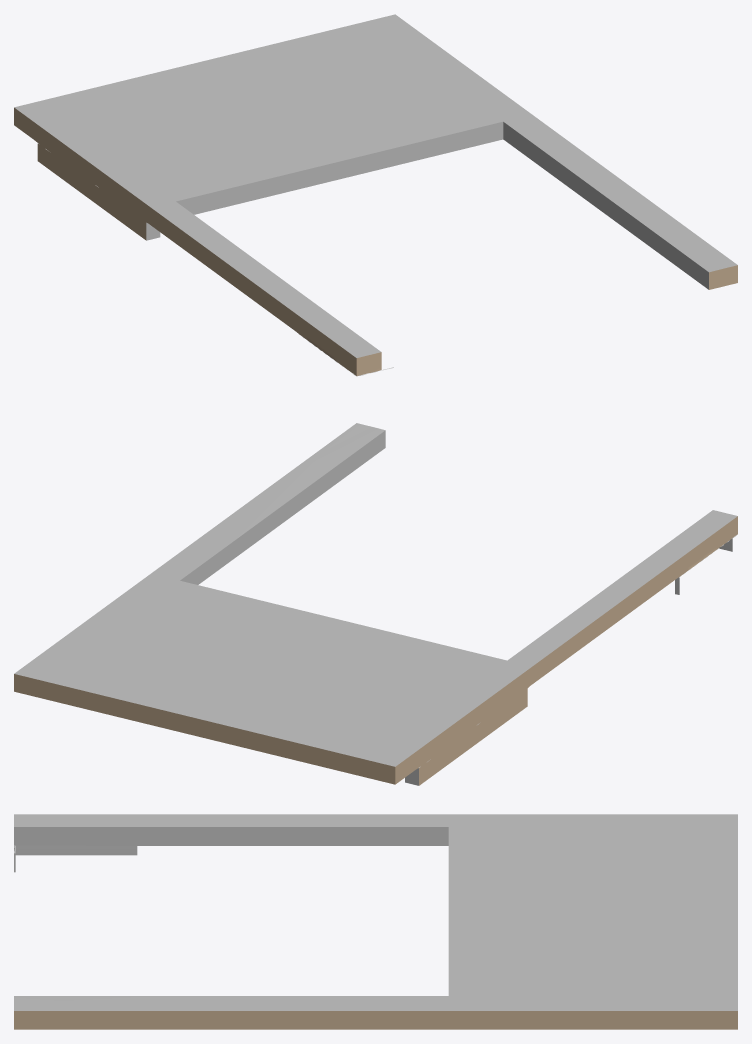
File: bbdd32e0-d52b-4fb3-bd45-c3b78ccb10a2-003eba64.glb
The picture shows the model from 3 angles, top to bottom: view 1: azimuth 30°, elevation 25°; view 2: azimuth 150°, elevation 25°; view 3: azimuth 270°, elevation 25°; orthographic projection. The views are drawn at different scales.
Visible parts, largest first — view 1: sopnet4; view 2: sopnet4; view 3: sopnet4.
Boxes of the visible parts, x1,y1,x2,y2 form: sopnet4: (14,14,737,376); sopnet4: (14,423,737,785); sopnet4: (14,814,737,1029).
Bounding box in the file's own units: 4.05 × 0.37 × 6.31.
